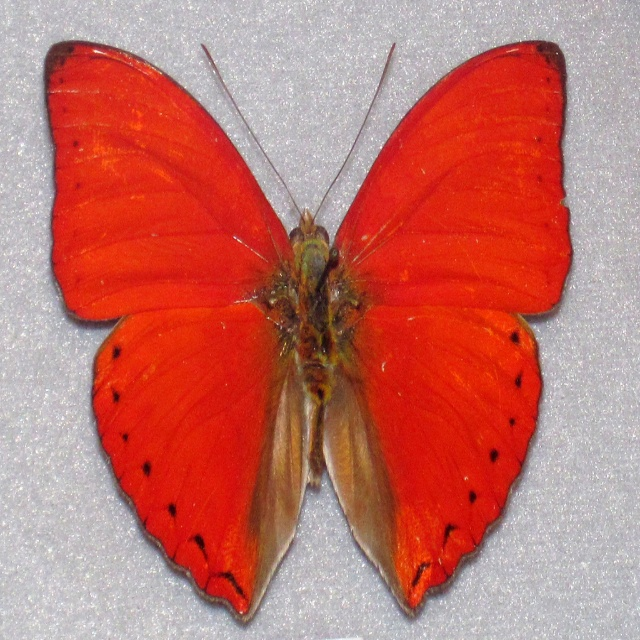Butterfly: (55, 0, 556, 585)
